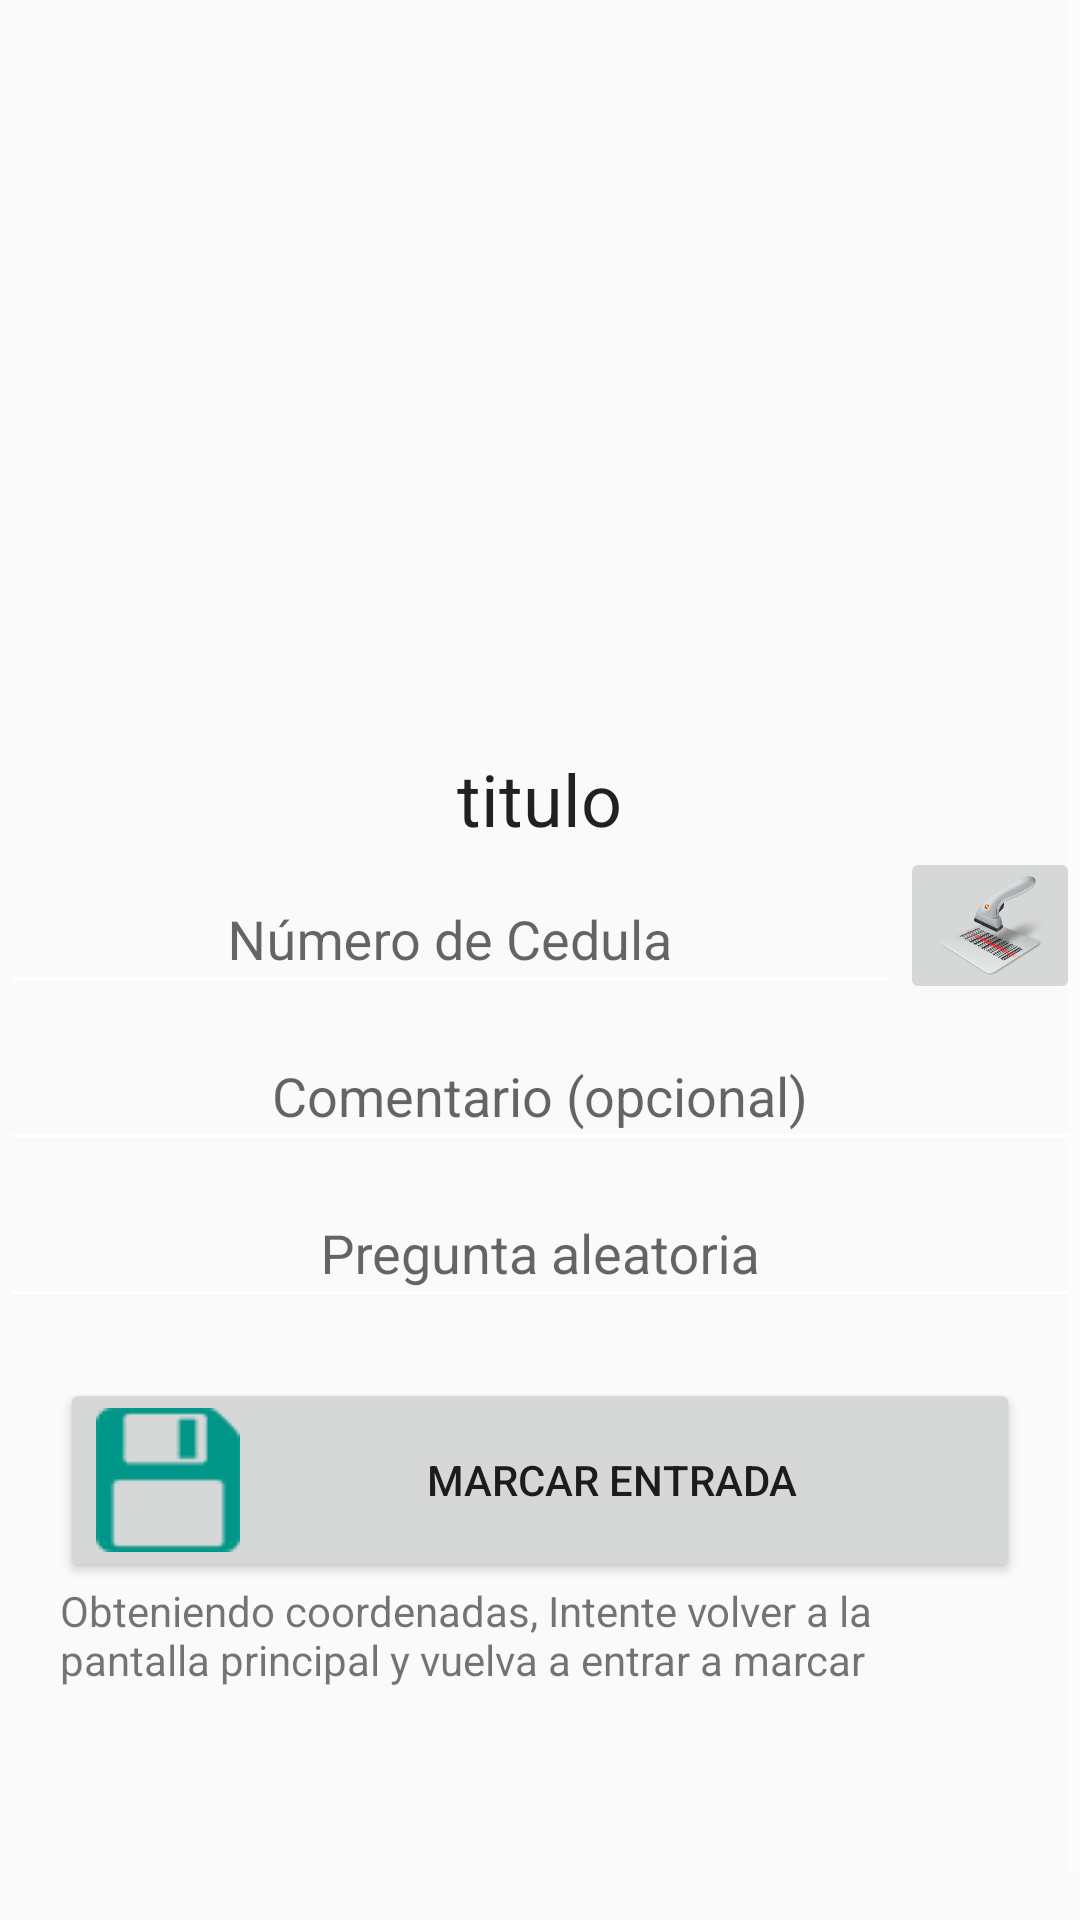

Icon click points for this 1080 × 1920 phone screenshot, format (x=x, y=y):
bar code: (x=990, y=925)
